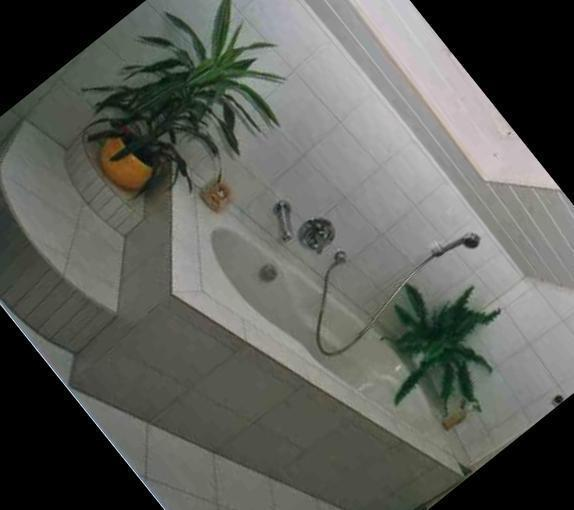Escaleras: (0, 85, 179, 354)
Matera: (60, 0, 300, 223)
